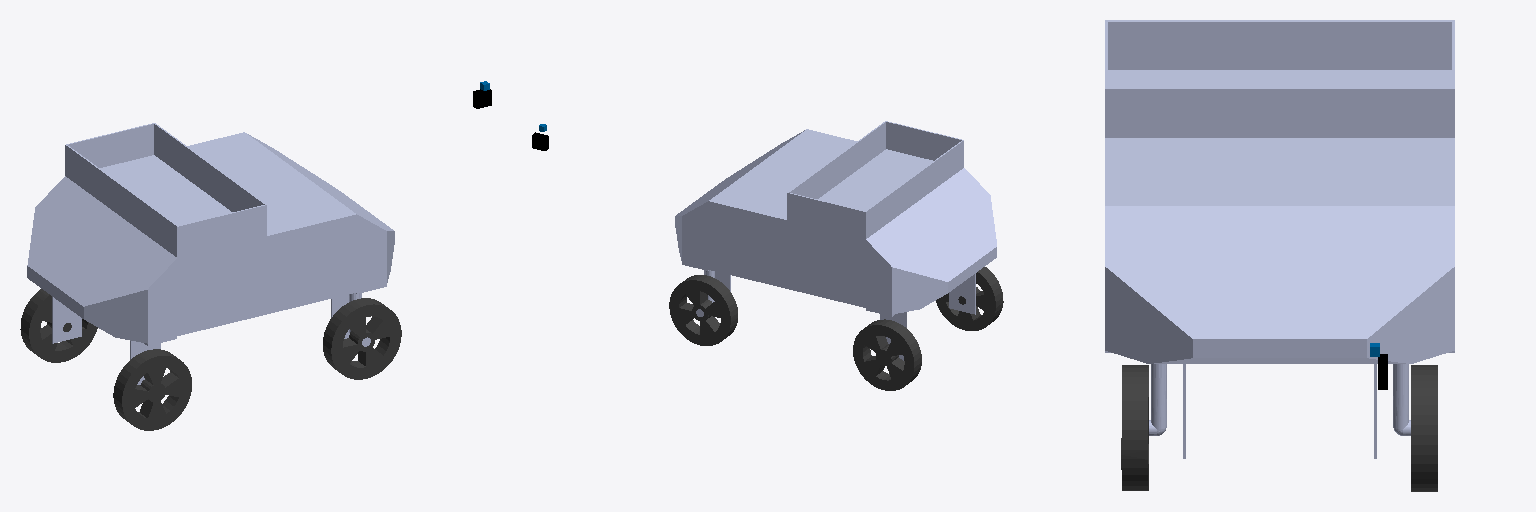
--- What the picture shows (computed from the rendered views, not written in the file) ---
The picture shows the robot from 3 angles, left to right: view 1: azimuth 30°, elevation 25°; view 2: azimuth 150°, elevation 25°; view 3: azimuth 270°, elevation 25°; orthographic projection.
Robot: arrowbot_manipulator — 21 links, 20 joints (9 revolute, 4 continuous, 7 fixed); root link world; default pose: all joints at 0.
Links seen in each view (by area): view 1: base_link, rear_right_traction_link, front_right_traction_link, rear_left_traction_link; view 2: base_link, rear_left_traction_link, front_left_traction_link, rear_right_traction_link; view 3: base_link, front_right_traction_link, front_left_traction_link, front_right_steering_link, front_left_steering_link.
Link boxes in pixels (x1,y1,x2,y2): base_link: (27,123,394,384); rear_right_traction_link: (113,349,191,430); front_right_traction_link: (323,298,401,379); rear_left_traction_link: (20,289,97,362); base_link: (675,121,996,360); rear_left_traction_link: (853,319,921,390); front_left_traction_link: (669,275,737,345); rear_right_traction_link: (936,267,1003,330); base_link: (1105,20,1454,363); front_right_traction_link: (1121,365,1148,490); front_left_traction_link: (1411,365,1437,491); front_right_steering_link: (1149,364,1185,458); front_left_steering_link: (1374,364,1410,458).
Size in the robot's own frame: 1.56 by 0.65 by 0.65 metres.
7 mesh visuals loaded from 15 distinct referenced files (7 binary STL); not drawn: 8 (reference not matched to a file when rendering).

The robot description file, URDF, robot "arrowbot_manipulator":
<?xml version="1.0" ?>
<!-- =================================================================================== -->
<!-- |    This document was autogenerated by xacro from xacro/my_robot_integration.urdf.xacro | -->
<!-- |    EDITING THIS FILE BY HAND IS NOT RECOMMENDED                                 | -->
<!-- =================================================================================== -->
<!-- Name your robot here -->
<robot name="arrowbot_manipulator">
  <link name="world"/>
  <joint name="world_to_base_chassis" type="fixed">
    <parent link="world"/>
    <child link="base_link"/>
  </joint>
  <link name="base_link">
    <inertial>
      <origin rpy="0 0 0" xyz="-0.00152496023581761 -1.49880108324396E-15 0.41656505769634"/>
      <mass value="140.881375417544"/>
      <inertia ixx="5.56263581045109" ixy="4.14558210632405E-16" ixz="0.00897971099216939" iyy="9.93808056613776" iyz="-1.47285491476469E-14" izz="14.0454140006162"/>
    </inertial>
    <visual>
      <origin rpy="0 0 0" xyz="0 0 0"/>
      <geometry>
        <mesh filename="package://arrowbot_manipulator/meshes/base_link.STL"/>
      </geometry>
      <material name="">
        <color rgba="0.792156862745098 0.819607843137255 0.933333333333333 1"/>
      </material>
    </visual>
    <collision>
      <origin rpy="0 0 0" xyz="0 0 0"/>
      <geometry>
        <mesh filename="package://arrowbot_manipulator/meshes/base_link.STL"/>
      </geometry>
    </collision>
  </link>
  <link name="front_right_steering_link">
    <inertial>
      <origin rpy="0 0 0" xyz="3.35030630481681E-05 -0.0104122262964219 0.107722722499542"/>
      <mass value="0.326310824479732"/>
      <inertia ixx="0.00152052036988695" ixy="8.18237871465334E-08" ixz="-3.55130199846267E-08" iyy="0.00149497940453797" iyz="1.08762320044888E-05" izz="0.000280476315204757"/>
    </inertial>
    <visual>
      <origin rpy="0 0 0" xyz="0 0 0"/>
      <geometry>
        <mesh filename="package://arrowbot_manipulator/meshes/front_right_steering_link.STL"/>
      </geometry>
      <material name="">
        <color rgba="0.792156862745098 0.819607843137255 0.933333333333333 1"/>
      </material>
    </visual>
    <collision>
      <origin rpy="0 0 0" xyz="0 0 0"/>
      <geometry>
        <mesh filename="package://arrowbot_manipulator/meshes/front_right_steering_link.STL"/>
      </geometry>
    </collision>
  </link>
  <joint name="front_right_steering_joint" type="revolute">
    <origin rpy="-3.1416 0 0" xyz="0.35 -0.225 0.3"/>
    <parent link="base_link"/>
    <child link="front_right_steering_link"/>
    <axis xyz="0 0 1"/>
    <limit effort="20" lower="-1.57" upper="1.57" velocity="20"/>
  </joint>
  <link name="front_right_traction_link">
    <inertial>
      <origin rpy="0 0 0" xyz="8.0428507501229E-05 -1.38777878078145E-17 -0.0249998706247692"/>
      <mass value="1.70136877145971"/>
      <inertia ixx="0.00704952291146439" ixy="8.11544004879757E-19" ixz="-2.0398345052034E-05" iyy="0.00704945728678685" iyz="-1.10507822569749E-18" izz="0.013389945294121"/>
    </inertial>
    <visual>
      <origin rpy="0 0 0" xyz="0 0 0"/>
      <geometry>
        <mesh filename="package://arrowbot_manipulator/meshes/front_right_traction_link.STL"/>
      </geometry>
      <material name="">
        <color rgba="0.298039215686275 0.298039215686275 0.298039215686275 1"/>
      </material>
    </visual>
    <collision>
      <origin rpy="0 0 0" xyz="0 0 0"/>
      <geometry>
        <mesh filename="package://arrowbot_manipulator/meshes/front_right_traction_link.STL"/>
      </geometry>
    </collision>
  </link>
  <joint name="front_right_traction_joint" type="continuous">
    <origin rpy="-1.5708 0 0" xyz="-0.00022198 0.069 0.1825"/>
    <parent link="front_right_steering_link"/>
    <child link="front_right_traction_link"/>
    <axis xyz="0.00037752 0 -1"/>
    <limit effort="100" lower="-1E+41" upper="1E+41" velocity="100"/>
  </joint>
  <link name="front_left_steering_link">
    <inertial>
      <origin rpy="0 0 0" xyz="-6.6314452817906E-09 -0.0104122821265815 -0.1077227179331"/>
      <mass value="0.326310794976127"/>
      <inertia ixx="0.00152052057351642" ixy="3.48542603283124E-10" ixz="-5.39771957962027E-10" iyy="0.00149497907981511" iyz="-1.08762908753029E-05" izz="0.00028047631148277"/>
    </inertial>
    <visual>
      <origin rpy="0 0 0" xyz="0 0 0"/>
      <geometry>
        <mesh filename="package://arrowbot_manipulator/meshes/front_left_steering_link.STL"/>
      </geometry>
      <material name="">
        <color rgba="0.792156862745098 0.819607843137255 0.933333333333333 1"/>
      </material>
    </visual>
    <collision>
      <origin rpy="0 0 0" xyz="0 0 0"/>
      <geometry>
        <mesh filename="package://arrowbot_manipulator/meshes/front_left_steering_link.STL"/>
      </geometry>
    </collision>
  </link>
  <joint name="front_left_steering_joint" type="revolute">
    <origin rpy="0 0 0" xyz="0.35 0.225 0.3"/>
    <parent link="base_link"/>
    <child link="front_left_steering_link"/>
    <axis xyz="0 0 1"/>
    <limit effort="20" lower="-1.57" upper="1.57" velocity="20"/>
  </joint>
  <link name="front_left_traction_link">
    <inertial>
      <origin rpy="0 0 0" xyz="0 -1.38777878078145E-17 -0.025"/>
      <mass value="1.70136877145972"/>
      <inertia ixx="0.00704945728678675" ixy="1.04555629426703E-18" ixz="-3.60838241345303E-19" iyy="0.00704945728678675" iyz="-1.28370159262104E-18" izz="0.0133900109187986"/>
    </inertial>
    <visual>
      <origin rpy="0 0 0" xyz="0 0 0"/>
      <geometry>
        <mesh filename="package://arrowbot_manipulator/meshes/front_left_traction_link.STL"/>
      </geometry>
      <material name="">
        <color rgba="0.298039215686275 0.298039215686275 0.298039215686275 1"/>
      </material>
    </visual>
    <collision>
      <origin rpy="0 0 0" xyz="0 0 0"/>
      <geometry>
        <mesh filename="package://arrowbot_manipulator/meshes/front_left_traction_link.STL"/>
      </geometry>
    </collision>
  </link>
  <joint name="front_left_traction_joint" type="continuous">
    <origin rpy="1.5708 0 3.1416" xyz="0 0.069 -0.1825"/>
    <parent link="front_left_steering_link"/>
    <child link="front_left_traction_link"/>
    <axis xyz="-0.00037752 0 1"/>
    <limit effort="100" lower="-1E+41" upper="1E+41" velocity="100"/>
  </joint>
  <link name="rear_right_traction_link">
    <inertial>
      <origin rpy="0 0 0" xyz="0 2.77555756156289E-17 0.0252647474588823"/>
      <mass value="3.38004923959157"/>
      <inertia ixx="0.0136655517772199" ixy="1.98439422140177E-18" ixz="-1.16668758779945E-18" iyy="0.0136655517772199" iyz="1.7782027711522E-18" izz="0.0258707251072438"/>
    </inertial>
    <visual>
      <origin rpy="0 0 0" xyz="0 0 0"/>
      <geometry>
        <mesh filename="package://arrowbot_manipulator/meshes/rear_right_traction_link.STL"/>
      </geometry>
      <material name="">
        <color rgba="0.294117647058824 0.294117647058824 0.294117647058824 1"/>
      </material>
    </visual>
    <collision>
      <origin rpy="0 0 0" xyz="0 0 0"/>
      <geometry>
        <mesh filename="package://arrowbot_manipulator/meshes/rear_right_traction_link.STL"/>
      </geometry>
    </collision>
  </link>
  <joint name="rear_right_traction_joint" type="continuous">
    <origin rpy="-1.5708 0 0" xyz="-0.35 -0.294 0.1175"/>
    <parent link="base_link"/>
    <child link="rear_right_traction_link"/>
    <axis xyz="0 0 1"/>
    <limit effort="100" lower="-1E+41" upper="1E+41" velocity="100"/>
  </joint>
  <link name="rear_left_traction_link">
    <inertial>
      <origin rpy="0 0 0" xyz="2.77555756156289E-17 0 0.0252647474588821"/>
      <mass value="3.38004923959156"/>
      <inertia ixx="0.0136655517772198" ixy="-3.01846096499007E-18" ixz="1.93364857573229E-18" iyy="0.0136655517772198" iyz="-1.03667101024372E-18" izz="0.0258707251072438"/>
    </inertial>
    <visual>
      <origin rpy="0 0 0" xyz="0 0 0"/>
      <geometry>
        <mesh filename="package://arrowbot_manipulator/meshes/rear_left_traction_link.STL"/>
      </geometry>
      <material name="">
        <color rgba="0.294117647058824 0.294117647058824 0.294117647058824 1"/>
      </material>
    </visual>
    <collision>
      <origin rpy="0 0 0" xyz="0 0 0"/>
      <geometry>
        <mesh filename="package://arrowbot_manipulator/meshes/rear_left_traction_link.STL"/>
      </geometry>
    </collision>
  </link>
  <joint name="rear_left_traction_joint" type="continuous">
    <origin rpy="1.5708 0 0" xyz="-0.35 0.294 0.1175"/>
    <parent link="base_link"/>
    <child link="rear_left_traction_link"/>
    <axis xyz="0 0 -1"/>
    <limit effort="100" lower="-1E+41" upper="1E+41" velocity="100"/>
  </joint>
  <transmission name="rear_left_motor">
    <type>transmission_interface/SimpleTransmission</type>
    <joint name="rear_left_traction_joint">
      <hardwareInterface>hardware_interface/VelocityJointInterface</hardwareInterface>
    </joint>
    <actuator name="rear_left_motor">
      <mechanicalReduction>1.2</mechanicalReduction>
      <hardwareInterface>hardware_interface/VelocityJointInterface</hardwareInterface>
    </actuator>
  </transmission>
  <transmission name="rear_right_motor">
    <type>transmission_interface/SimpleTransmission</type>
    <joint name="rear_right_traction_joint">
      <hardwareInterface>hardware_interface/VelocityJointInterface</hardwareInterface>
    </joint>
    <actuator name="rear_right_motor">
      <mechanicalReduction>1.2</mechanicalReduction>
      <hardwareInterface>hardware_interface/VelocityJointInterface</hardwareInterface>
    </actuator>
  </transmission>
  <transmission name="front_left_steering">
    <type>transmission_interface/SimpleTransmission</type>
    <joint name="front_left_steering_joint">
      <hardwareInterface>hardware_interface/EffortJointInterface</hardwareInterface>
    </joint>
    <actuator name="front_left_steering">
      <mechanicalReduction>5</mechanicalReduction>
      <hardwareInterface>hardware_interface/EffortJointInterface</hardwareInterface>
    </actuator>
  </transmission>
  <transmission name="front_right_steering">
    <type>transmission_interface/SimpleTransmission</type>
    <joint name="front_right_steering_joint">
      <hardwareInterface>hardware_interface/EffortJointInterface</hardwareInterface>
    </joint>
    <actuator name="front_right_steering">
      <mechanicalReduction>5</mechanicalReduction>
      <hardwareInterface>hardware_interface/EffortJointInterface</hardwareInterface>
    </actuator>
  </transmission>
  <!--
URDF for UR5 Generated from ur5 Xacro provided by the contributors on Github. Credit to the contributors
  -->

  <transmission name="ur5_shoulder_pan_trans">
    <type>transmission_interface/SimpleTransmission</type>
    <joint name="ur5_shoulder_pan_joint">
      <hardwareInterface>hardware_interface/PositionJointInterface</hardwareInterface>
    </joint>
    <actuator name="ur5_shoulder_pan_motor">
      <mechanicalReduction>1</mechanicalReduction>
    </actuator>
  </transmission>
  <transmission name="ur5_shoulder_lift_trans">
    <type>transmission_interface/SimpleTransmission</type>
    <joint name="ur5_shoulder_lift_joint">
      <hardwareInterface>hardware_interface/PositionJointInterface</hardwareInterface>
    </joint>
    <actuator name="ur5_shoulder_lift_motor">
      <mechanicalReduction>1</mechanicalReduction>
    </actuator>
  </transmission>
  <transmission name="ur5_elbow_trans">
    <type>transmission_interface/SimpleTransmission</type>
    <joint name="ur5_elbow_joint">
      <hardwareInterface>hardware_interface/PositionJointInterface</hardwareInterface>
    </joint>
    <actuator name="ur5_elbow_motor">
      <mechanicalReduction>1</mechanicalReduction>
    </actuator>
  </transmission>
  <transmission name="ur5_wrist_1_trans">
    <type>transmission_interface/SimpleTransmission</type>
    <joint name="ur5_wrist_1_joint">
      <hardwareInterface>hardware_interface/PositionJointInterface</hardwareInterface>
    </joint>
    <actuator name="ur5_wrist_1_motor">
      <mechanicalReduction>1</mechanicalReduction>
    </actuator>
  </transmission>
  <transmission name="ur5_wrist_2_trans">
    <type>transmission_interface/SimpleTransmission</type>
    <joint name="ur5_wrist_2_joint">
      <hardwareInterface>hardware_interface/PositionJointInterface</hardwareInterface>
    </joint>
    <actuator name="ur5_wrist_2_motor">
      <mechanicalReduction>1</mechanicalReduction>
    </actuator>
  </transmission>
  <transmission name="ur5_wrist_3_trans">
    <type>transmission_interface/SimpleTransmission</type>
    <joint name="ur5_wrist_3_joint">
      <hardwareInterface>hardware_interface/PositionJointInterface</hardwareInterface>
    </joint>
    <actuator name="ur5_wrist_3_motor">
      <mechanicalReduction>1</mechanicalReduction>
    </actuator>
  </transmission>
  <!-- links: main serial chain -->
  <link name="ur5_base_link"/>
  <link name="ur5_base_link_inertia">
    <visual>
      <origin rpy="0 0 3.141592653589793" xyz="0 0 0"/>
      <geometry>
        <mesh filename="package://arrowbot_manipulator/meshes/ur5/visual/base.dae"/>
      </geometry>
      <material name="LightGrey">
        <color rgba="0.7 0.7 0.7 1.0"/>
      </material>
    </visual>
    <collision>
      <origin rpy="0 0 3.141592653589793" xyz="0 0 0"/>
      <geometry>
        <mesh filename="package://arrowbot_manipulator/meshes/ur5/collision/base.stl"/>
      </geometry>
    </collision>
    <inertial>
      <mass value="4.0"/>
      <origin rpy="0 0 0" xyz="0 0 0"/>
      <inertia ixx="0.00443333156" ixy="0.0" ixz="0.0" iyy="0.00443333156" iyz="0.0" izz="0.0072"/>
    </inertial>
  </link>
  <link name="ur5_shoulder_link">
    <visual>
      <origin rpy="0 0 3.141592653589793" xyz="0 0 0"/>
      <geometry>
        <mesh filename="package://arrowbot_manipulator/meshes/ur5/visual/shoulder.dae"/>
      </geometry>
      <material name="LightGrey">
        <color rgba="0.7 0.7 0.7 1.0"/>
      </material>
    </visual>
    <collision>
      <origin rpy="0 0 3.141592653589793" xyz="0 0 0"/>
      <geometry>
        <mesh filename="package://arrowbot_manipulator/meshes/ur5/collision/shoulder.stl"/>
      </geometry>
    </collision>
    <inertial>
      <mass value="3.7"/>
      <origin rpy="0 0 0" xyz="0 0 0"/>
      <inertia ixx="0.014972352344389999" ixy="0.0" ixz="0.0" iyy="0.014972352344389999" iyz="0.0" izz="0.01040625"/>
    </inertial>
  </link>
  <link name="ur5_upper_arm_link">
    <visual>
      <origin rpy="1.5707963267948966 0 -1.5707963267948966" xyz="0 0 0.13585"/>
      <geometry>
        <mesh filename="package://arrowbot_manipulator/meshes/ur5/visual/upperarm.dae"/>
      </geometry>
      <material name="LightGrey">
        <color rgba="0.7 0.7 0.7 1.0"/>
      </material>
    </visual>
    <collision>
      <origin rpy="1.5707963267948966 0 -1.5707963267948966" xyz="0 0 0.13585"/>
      <geometry>
        <mesh filename="package://arrowbot_manipulator/meshes/ur5/collision/upperarm.stl"/>
      </geometry>
    </collision>
    <inertial>
      <mass value="8.393"/>
      <origin rpy="0 1.5707963267948966 0" xyz="-0.2125 0.0 0.136"/>
      <inertia ixx="0.1338857818623325" ixy="0.0" ixz="0.0" iyy="0.1338857818623325" iyz="0.0" izz="0.0151074"/>
    </inertial>
  </link>
  <link name="ur5_forearm_link">
    <visual>
      <origin rpy="1.5707963267948966 0 -1.5707963267948966" xyz="0 0 0.0165"/>
      <geometry>
        <mesh filename="package://arrowbot_manipulator/meshes/ur5/visual/forearm.dae"/>
      </geometry>
      <material name="LightGrey">
        <color rgba="0.7 0.7 0.7 1.0"/>
      </material>
    </visual>
    <collision>
      <origin rpy="1.5707963267948966 0 -1.5707963267948966" xyz="0 0 0.0165"/>
      <geometry>
        <mesh filename="package://arrowbot_manipulator/meshes/ur5/collision/forearm.stl"/>
      </geometry>
    </collision>
    <inertial>
      <mass value="2.275"/>
      <origin rpy="0 1.5707963267948966 0" xyz="-0.196125 0.0 0.0165"/>
      <inertia ixx="0.03121679102890359" ixy="0.0" ixz="0.0" iyy="0.03121679102890359" iyz="0.0" izz="0.004095"/>
    </inertial>
  </link>
  <link name="ur5_wrist_1_link">
    <visual>
      <!-- TODO: Move this to a parameter -->
      <origin rpy="1.5707963267948966 0 0" xyz="0 0 -0.093"/>
      <geometry>
        <mesh filename="package://arrowbot_manipulator/meshes/ur5/visual/wrist1.dae"/>
      </geometry>
      <material name="LightGrey">
        <color rgba="0.7 0.7 0.7 1.0"/>
      </material>
    </visual>
    <collision>
      <origin rpy="1.5707963267948966 0 0" xyz="0 0 -0.093"/>
      <geometry>
        <mesh filename="package://arrowbot_manipulator/meshes/ur5/collision/wrist1.stl"/>
      </geometry>
    </collision>
    <inertial>
      <mass value="1.219"/>
      <origin rpy="0 0 0" xyz="0 0 0"/>
      <inertia ixx="0.0020138887777775" ixy="0.0" ixz="0.0" iyy="0.0020138887777775" iyz="0.0" izz="0.0021942"/>
    </inertial>
  </link>
  <link name="ur5_wrist_2_link">
    <visual>
      <origin rpy="0 0 0" xyz="0 0 -0.095"/>
      <geometry>
        <mesh filename="package://arrowbot_manipulator/meshes/ur5/visual/wrist2.dae"/>
      </geometry>
      <material name="LightGrey">
        <color rgba="0.7 0.7 0.7 1.0"/>
      </material>
    </visual>
    <collision>
      <origin rpy="0 0 0" xyz="0 0 -0.095"/>
      <geometry>
        <mesh filename="package://arrowbot_manipulator/meshes/ur5/collision/wrist2.stl"/>
      </geometry>
    </collision>
    <inertial>
      <mass value="1.219"/>
      <origin rpy="0 0 0" xyz="0 0 0"/>
      <inertia ixx="0.0018310388509175" ixy="0.0" ixz="0.0" iyy="0.0018310388509175" iyz="0.0" izz="0.0021942"/>
    </inertial>
  </link>
  <link name="ur5_wrist_3_link">
    <visual>
      <origin rpy="1.5707963267948966 0 0" xyz="0 0 -0.0818"/>
      <geometry>
        <mesh filename="package://arrowbot_manipulator/meshes/ur5/visual/wrist3.dae"/>
      </geometry>
      <material name="LightGrey">
        <color rgba="0.7 0.7 0.7 1.0"/>
      </material>
    </visual>
    <collision>
      <origin rpy="1.5707963267948966 0 0" xyz="0 0 -0.0818"/>
      <geometry>
        <mesh filename="package://arrowbot_manipulator/meshes/ur5/collision/wrist3.stl"/>
      </geometry>
    </collision>
    <inertial>
      <mass value="0.1879"/>
      <origin rpy="0 0 0" xyz="0.0 0.0 -0.01525"/>
      <inertia ixx="8.062472608343e-05" ixy="0.0" ixz="0.0" iyy="8.062472608343e-05" iyz="0.0" izz="0.0001321171875"/>
    </inertial>
  </link>
  <!-- joints: main serial chain -->
  <joint name="ur5_base_link-base_link_inertia" type="fixed">
    <parent link="ur5_base_link"/>
    <child link="ur5_base_link_inertia"/>
    <!-- 'base_link' is REP-103 aligned (so X+ forward), while the internal
           frames of the robot/controller have X+ pointing backwards.
           Use the joint between 'base_link' and 'base_link_inertia' (a dummy
           link/frame) to introduce the necessary rotation over Z (of pi rad).
      -->
    <origin rpy="0 0 3.141592653589793" xyz="0 0 0"/>
  </joint>
  <joint name="ur5_shoulder_pan_joint" type="revolute">
    <parent link="ur5_base_link_inertia"/>
    <child link="ur5_shoulder_link"/>
    <origin rpy="0 0 0" xyz="0 0 0.089159"/>
    <axis xyz="0 0 1"/>
    <limit effort="150.0" lower="-6.283185307179586" upper="6.283185307179586" velocity="3.141592653589793"/>
    <dynamics damping="0" friction="0"/>
  </joint>
  <joint name="ur5_shoulder_lift_joint" type="revolute">
    <parent link="ur5_shoulder_link"/>
    <child link="ur5_upper_arm_link"/>
    <origin rpy="1.570796327 0 0" xyz="0 0 0"/>
    <axis xyz="0 0 1"/>
    <limit effort="150.0" lower="-6.283185307179586" upper="6.283185307179586" velocity="3.141592653589793"/>
    <dynamics damping="0" friction="0"/>
  </joint>
  <joint name="ur5_elbow_joint" type="revolute">
    <parent link="ur5_upper_arm_link"/>
    <child link="ur5_forearm_link"/>
    <origin rpy="0 0 0" xyz="-0.425 0 0"/>
    <axis xyz="0 0 1"/>
    <limit effort="150.0" lower="-3.141592653589793" upper="3.141592653589793" velocity="3.141592653589793"/>
    <dynamics damping="0" friction="0"/>
  </joint>
  <joint name="ur5_wrist_1_joint" type="revolute">
    <parent link="ur5_forearm_link"/>
    <child link="ur5_wrist_1_link"/>
    <origin rpy="0 0 0" xyz="-0.39225 0 0.10915"/>
    <axis xyz="0 0 1"/>
    <limit effort="28.0" lower="-6.283185307179586" upper="6.283185307179586" velocity="3.141592653589793"/>
    <dynamics damping="0" friction="0"/>
  </joint>
  <joint name="ur5_wrist_2_joint" type="revolute">
    <parent link="ur5_wrist_1_link"/>
    <child link="ur5_wrist_2_link"/>
    <origin rpy="1.570796327 0 0" xyz="0 -0.09465 -1.941303950897609e-11"/>
    <axis xyz="0 0 1"/>
    <limit effort="28.0" lower="-6.283185307179586" upper="6.283185307179586" velocity="3.141592653589793"/>
    <dynamics damping="0" friction="0"/>
  </joint>
  <joint name="ur5_wrist_3_joint" type="revolute">
    <parent link="ur5_wrist_2_link"/>
    <child link="ur5_wrist_3_link"/>
    <origin rpy="1.570796326589793 3.141592653589793 3.141592653589793" xyz="0 0.0823 -1.688001216681175e-11"/>
    <axis xyz="0 0 1"/>
    <limit effort="28.0" lower="-6.283185307179586" upper="6.283185307179586" velocity="3.141592653589793"/>
    <dynamics damping="0" friction="0"/>
  </joint>
  <!-- ROS-Industrial 'base' frame: base_link to UR 'Base' Coordinates transform -->
  <link name="ur5_base"/>
  <joint name="ur5_base_link-base_fixed_joint" type="fixed">
    <!-- Note the rotation over Z of pi radians: as base_link is REP-103
           aligned (ie: has X+ forward, Y+ left and Z+ up), this is needed
           to correctly align 'base' with the 'Base' coordinate system of
           the UR controller.
      -->
    <origin rpy="0 0 3.141592653589793" xyz="0 0 0"/>
    <parent link="ur5_base_link"/>
    <child link="ur5_base"/>
  </joint>

  <link name="base_laser">
    <inertial>
      <origin rpy="0 0 0" xyz="-0.00029774 0.0066667 0.00013047"/>
      <mass value="0.15717"/>
      <inertia ixx="6.7885E-05" ixy="-1.3987E-07" ixz="-8.1554E-07" iyy="0.00013173" iyz="-9.0932E-08" izz="7.1972E-05"/>
    </inertial>
    <visual>
      <origin rpy="0 0 0" xyz="0 0 0"/>
      <geometry>
        <mesh filename="package://arrowbot_manipulator/meshes/ydlidar.dae"/>
      </geometry>
      <material name="">
        <color rgba="0.64706 0.61961 0.58824 1"/>
      </material>
    </visual>
    <collision>
      <origin rpy="0 0 0" xyz="0 0 0"/>
      <geometry>
        <mesh filename="package://arrowbot_manipulator/meshes/ydlidar.dae"/>
      </geometry>
    </collision>
  </link>
  <link name="laser_frame">
    <inertial>
      <origin rpy="0 0 0" xyz="-0.00036659 0.00064155 -0.00027052"/>
      <mass value="0.25482"/>
      <inertia ixx="8.9194E-05" ixy="1.8116E-07" ixz="3.6435E-08" iyy="0.00018279" iyz="2.423E-07" izz="0.00011103"/>
    </inertial>
    <!--visual>
      <origin
        xyz="0 0 0"
        rpy="0 0 0" />
      <geometry>
        <mesh
          filename="package://arrowbot_manipulator/meshes/ydlidar.dae" />
      </geometry>
      <material
        name="">
        <color
          rgba="0.64706 0.61961 0.58824 1" />
      </material>
    </visual-->
    <!--collision>
      <origin
        xyz="0 0 0"
        rpy="0 0 0" />
      <geometry>
        <mesh
          filename="package://arrowbot_manipulator/meshes/ydlidar.dae" />
      </geometry>
    </collision-->
  </link>
  <joint name="laser_joint" type="fixed">
    <origin rpy="0 0 0" xyz="0 0 0.03172"/>
    <parent link="base_laser"/>
    <child link="laser_frame"/>
    <axis xyz="0 0 0"/>
  </joint>
  <!--  Gazebo plugin for control here is already added for you -->
  <gazebo>
    <plugin filename="libgazebo_ros_control.so" name="gazebo_ros_control">
      <robotNamespace>/arrowbot_manipulator</robotNamespace>
      <robotSimType>gazebo_ros_control/DefaultRobotHWSim</robotSimType>
      <legacyModeNS>true</legacyModeNS>
    </plugin>
  </gazebo>
  <gazebo reference="base_laser">
    <!-- <gravity>true</gravity> -->
    <!-- Gazebo has fixed set of Sensors types. Check them out here <> -->
    <sensor name="laser" type="ray">
      <!-- Add in your sensor characteristics -->
      <pose> 0 0 0 0 0 0 </pose>
      <visualise>true</visualise>
      <update_rate>40</update_rate>
      <!-- <always_on>true</always_on> -->
      <ray>
        <scan>
          <horizontal>
            <samples>720</samples>
            <resolution>1</resolution>
            <min_angle>-1.570796</min_angle>
            <max_angle>1.570796</max_angle>
          </horizontal>
        </scan>
        <range>
          <min>0.10</min>
          <max>30.0</max>
          <resolution>0.01</resolution>
        </range>
        <noise>
          <type>gaussian</type>
          <mean>0.0</mean>
          <stddev>0.01</stddev>
        </noise>
      </ray>
      <plugin filename="libgazebo_ros_laser.so" name="gazebo_ros_head_hokuyo_controller">
        <!-- Use topic name as /my_robot/scan -->
        <topicName>/arrowbot_manipulator/scan</topicName>
        <frameName>laser_frame</frameName>
      </plugin>
    </sensor>
  </gazebo>

  <!-- Create a joint between your robot and sensor -->
  <joint name="robot_laser" type="fixed">
    <origin rpy="0 0 3.46" xyz="0.2 -0.25 0.56"/>
    <parent link="base_link"/>
    <child link="base_laser"/>
    <axis xyz="0 0 0"/>
  </joint>
  <!-- Create a joint between your robot and sensor -->
  <joint name="bot_to_manipulator" type="fixed">
    <origin rpy="0 0 0" xyz="0.2 0 0.55"/>
    <parent link="base_link"/>
    <child link="ur5_base_link"/>
    <axis xyz="0 0 0"/>
  </joint>
    <!--gripper-->
  <link name="vacuum_effector">
      <gravity>0</gravity>
      <visual>
        <origin rpy="0 0 0" xyz="0 0 0"/>
        <geometry>
          <box size="0.05 0.05 0.02"/>
        </geometry>
        <material name="transparent">
          <color rgba="0 0 0 0"/>
        </material>
      </visual>
      <inertial>
        <origin rpy="0 0 0" xyz="0.000000 0.08 0.000000"/>
        <mass value="0.0001"/>
        <inertia ixx="1e-08" ixy="0" ixz="0" iyy="1e-08" iyz="0" izz="1e-08"/>
      </inertial>
    </link>
    <joint name="left_end_joint" type="revolute">
      <parent link="ur5_wrist_3_link" />
      <child link="vacuum_effector" />
      <origin rpy="0 0 0" xyz="0 0.0 0" />
      <limit effort="30" velocity="1.0" lower="0" upper="0" />
    </joint>
    <gazebo>
      <plugin name="gazebo_ros_vacuum_gripper" filename="libgazebo_ros_vacuum_gripper.so">
        <robotNamespace>/arrowbot_manipulator</robotNamespace>
        <bodyName>vacuum_effector</bodyName>
        <topicName>grasping</topicName>
      </plugin>
    
    </gazebo>
    <joint name="camera_joint" type="fixed">
    <axis xyz="0 0 0" />
    <origin xyz="0.0 0.045 -0.015" rpy="-1.57 -1.57 0"/>
    <parent link="ur5_wrist_3_link"/>
    <child link="camera"/>
  </joint>

<!--Camera-->
  <link name="camera">
    <visual>
      <geometry>
        <box size="0.02 0.02 0.02"/>
      </geometry>
      <material name="blue"/>
    </visual>
    <collision>
      <geometry>
        <box size="0.02 0.02 0.02"/>
      </geometry>
    </collision>
   <inertial>
      <mass value="1e-5" />
      <origin xyz="0 0 0" rpy="0 0 0"/>
      <inertia ixx="1e-6" ixy="0" ixz="0" iyy="1e-6" iyz="0" izz="1e-6" />
    </inertial>
  </link>




  
  <!--Gazebo Camera Plugin-->
   <gazebo reference="camera">
    <sensor type="camera" name="camera">
      <update_rate>30.0</update_rate>
      <camera name="head">
        <horizontal_fov>1.3962634</horizontal_fov>
        <image>
          <width>800</width>
          <height>800</height>
          <format>R8G8B8</format>
        </image>
        <clip>
          <near>0.02</near>
          <far>300</far>
        </clip>
        <noise>
          <type>gaussian</type>
          <!-- Noise is sampled independently per pixel on each frame.
               That pixel's noise value is added to each of its color
               channels, which at that point lie in the range [0,1]. -->
          <mean>0.0</mean>
          <stddev>0.007</stddev>
        </noise>
      </camera>
      <plugin name="camera_controller" filename="libgazebo_ros_camera.so">
        <alwaysOn>true</alwaysOn>
        <updateRate>0.0</updateRate>
        <cameraName>/mybot/camera</cameraName>
        <imageTopicName>image_raw</imageTopicName>
        <cameraInfoTopicName>camera_info</cameraInfoTopicName>
        <frameName>camera</frameName>
        <hackBaseline>0.07</hackBaseline>
        <distortionK1>0.0</distortionK1>
        <distortionK2>0.0</distortionK2>
        <distortionK3>0.0</distortionK3>
        <distortionT1>0.0</distortionT1>
        <distortionT2>0.0</distortionT2>
      </plugin>
    </sensor>
  </gazebo>
</robot>
